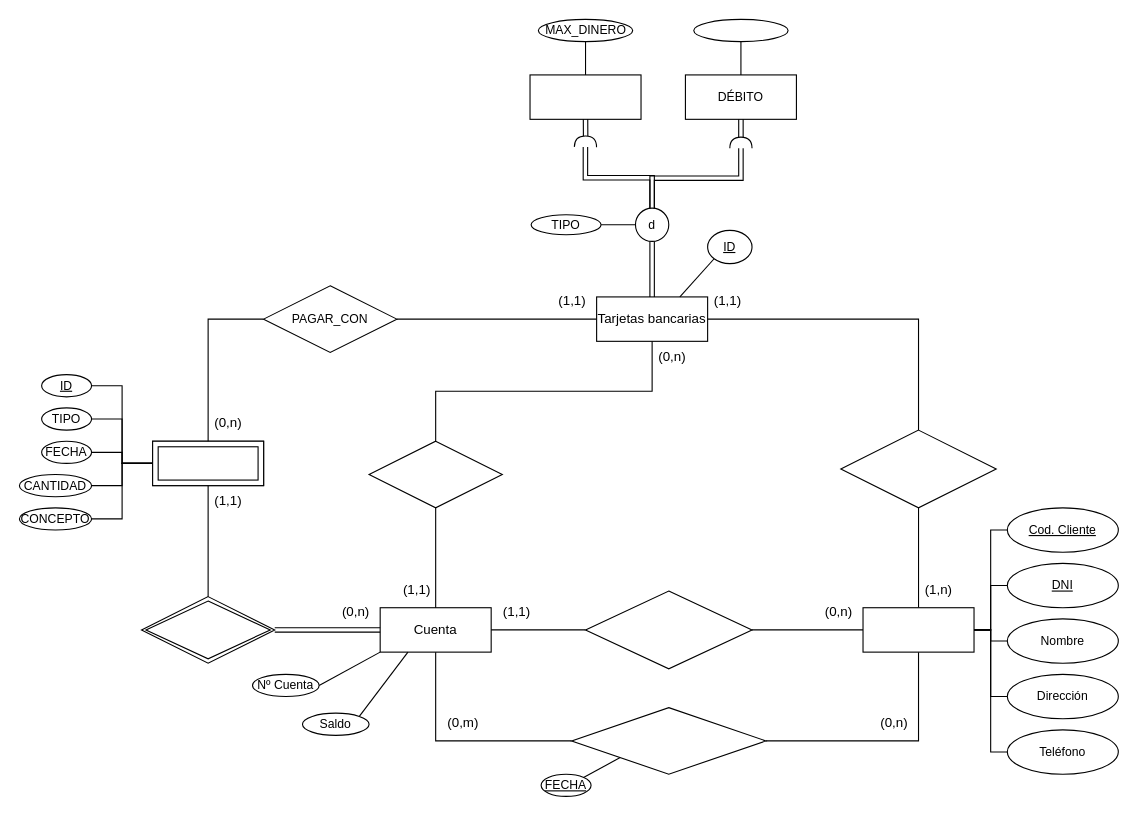
Some shapes in this 1138 by 816 pixel diagram are drawn without their labels. The shapes that lost their labels are listed below. From the top down, each one's centre as x and y in pixels, then its label:
the point at 740,30: LIM_DINERO
the point at 585,96: CRÉDITO
the point at 208,463: MOVIMIENTOS
the point at 435,474: EMITE
the point at 918,468: ES_PROPIETARIO_DE
the point at 207,629: REALIZADO_POR
the point at 668,629: ES_TITULAR_DE
the point at 918,629: Cliente
the point at 668,740: ESTA_AUTORIZADO
